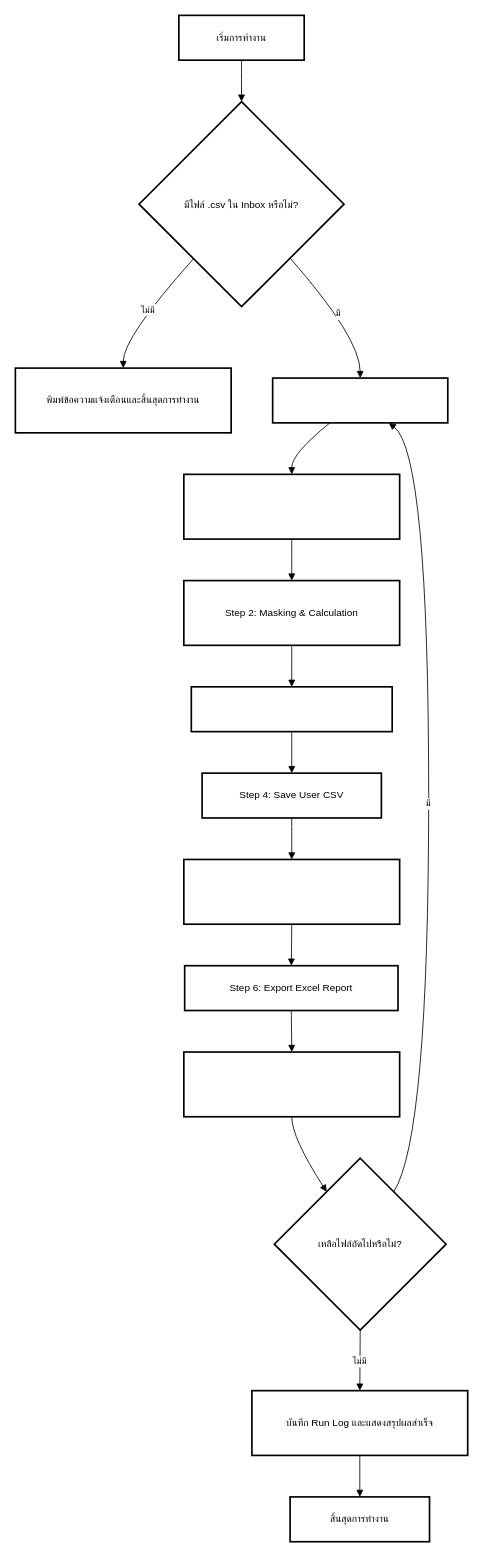
Some shapes in this 482 by 1556 pixel diagram are drawn without their labels. Here are the shapes that lost their labels. From the top down, the centre of each, then its label:
At point (359, 400): "เริ่มประมวลผลทีละไฟล์".
At point (291, 506): "Step 1: Security Check & Validate".
At point (291, 709): "Step 3: Save Cleaned CSV".
At point (291, 891): "Step 5: Generate Markdown Report".
At point (291, 1084): "Step 7: Backup & Delete from Inbox".
